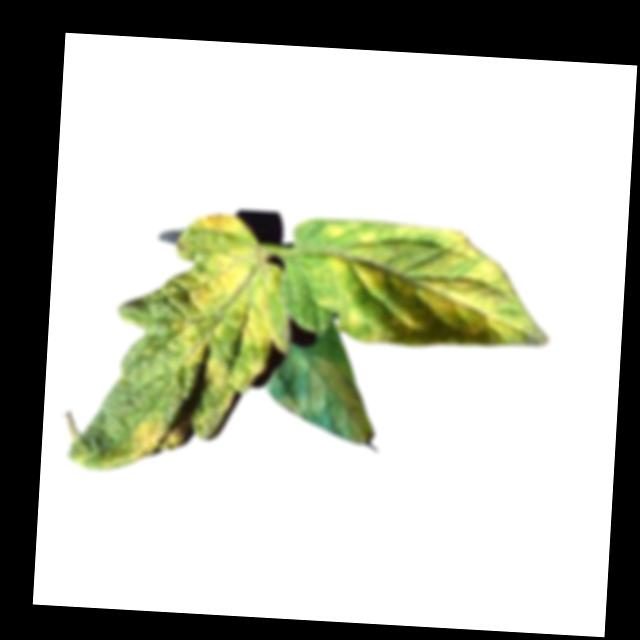Leaf_Mold: (313, 220, 557, 354), (166, 209, 296, 397), (301, 354, 378, 445), (106, 414, 189, 469)
